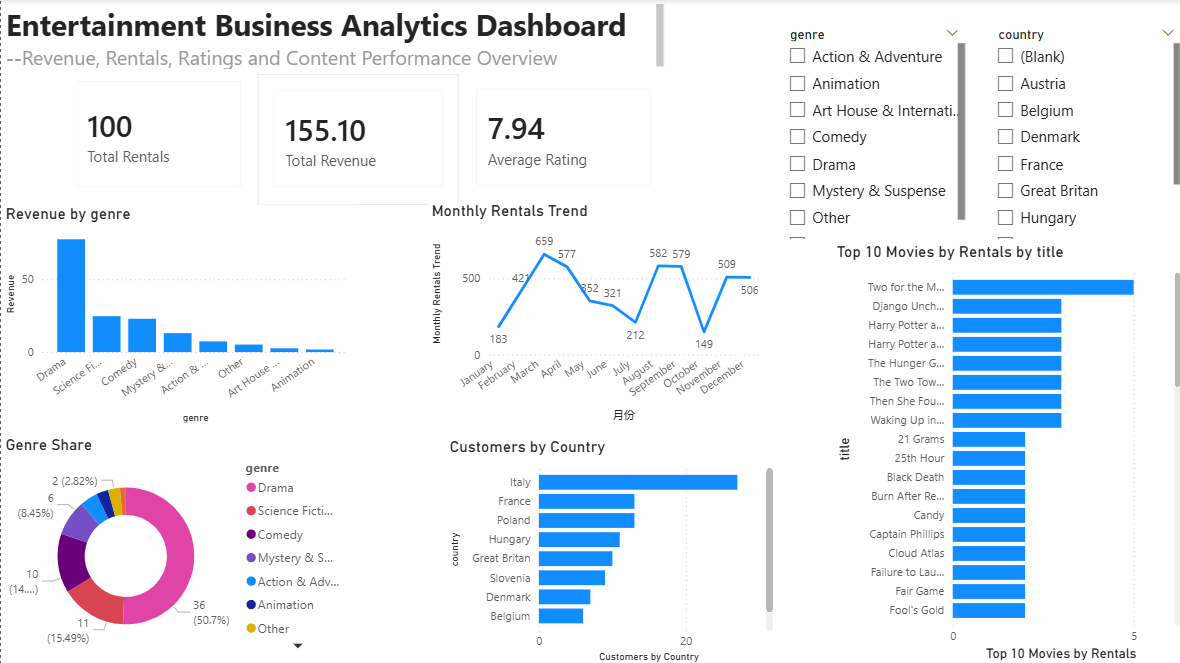

This screenshot's page, from the dashboard's own definition file:
{"tool":"powerbi","page":{"name":"entertainment Business Analytics Dashboard","canvas":[1280,720],"ordinal":0},"visuals":[{"type":"cardVisual","fields":{"Data":["Sum(movies.renting_price)"]},"box":[276.9,81.7,217.1,139.4],"z":0},{"type":"cardVisual","fields":{"Data":["CountNonNull(renting.renting_id)"]},"box":[63.7,71.7,213.1,149.4],"z":1000},{"type":"cardVisual","fields":{"Data":["Avg(renting.rating)"]},"box":[495.9,79.7,223.1,139.4],"z":2000},{"type":"lineChart","title":"Monthly Rentals Trend","fields":{"Y":["Sum(renting.renting_id)"],"Category":["renting.date_renting.变体.日期层次结构.月份"]},"box":[459.2,219.2,362.8,241.9],"z":3000},{"type":"clusteredColumnChart","fields":{"Category":["movies.genre"],"Y":["Sum(movies.renting_price)"]},"box":[0,221.1,379.8,240],"z":4000},{"type":"clusteredBarChart","fields":{"Category":["movies.title"],"Y":["CountNonNull(renting.renting_id)"]},"box":[896.3,262.9,382.4,456.1],"z":5000},{"type":"clusteredBarChart","title":"Customers by Country ","fields":{"Category":["customers.country"],"Y":["Count(customers.customer_id)"]},"box":[480,472.4,359.1,247.6],"z":6000},{"type":"donutChart","title":"Genre Share","fields":{"Category":["movies.genre"],"Y":["CountNonNull(movies.movie_id)"]},"box":[0,471,380,240],"z":7000},{"type":"textbox","box":[0,0,720,79.4],"z":8000},{"type":"slicer","fields":{"Values":["movies.genre"]},"box":[838.5,23.9,207.1,239],"z":9000},{"type":"slicer","fields":{"Values":["customers.country"]},"box":[1063.6,23.9,215.1,239],"z":10000}]}

Visuals, with their boxes in screenshot pixels (x1, y1, x2, y2), scaled from the page's 1280x720 canvas onto the 1180x663 screenshot:
cardVisual - Sum(movies.renting_price): 255,75,455,204
cardVisual - CountNonNull(renting.renting_id): 59,66,255,204
cardVisual - Avg(renting.rating): 457,73,663,202
"Monthly Rentals Trend" lineChart: 423,202,758,425
clusteredColumnChart - movies.genre x Sum(movies.renting_price): 0,204,350,425
clusteredBarChart - movies.title x CountNonNull(renting.renting_id): 826,242,1179,662
"Customers by Country " clusteredBarChart: 442,435,774,662
"Genre Share" donutChart: 0,434,350,655
textbox: 0,0,664,73
slicer - movies.genre: 773,22,964,242
slicer - customers.country: 981,22,1179,242
